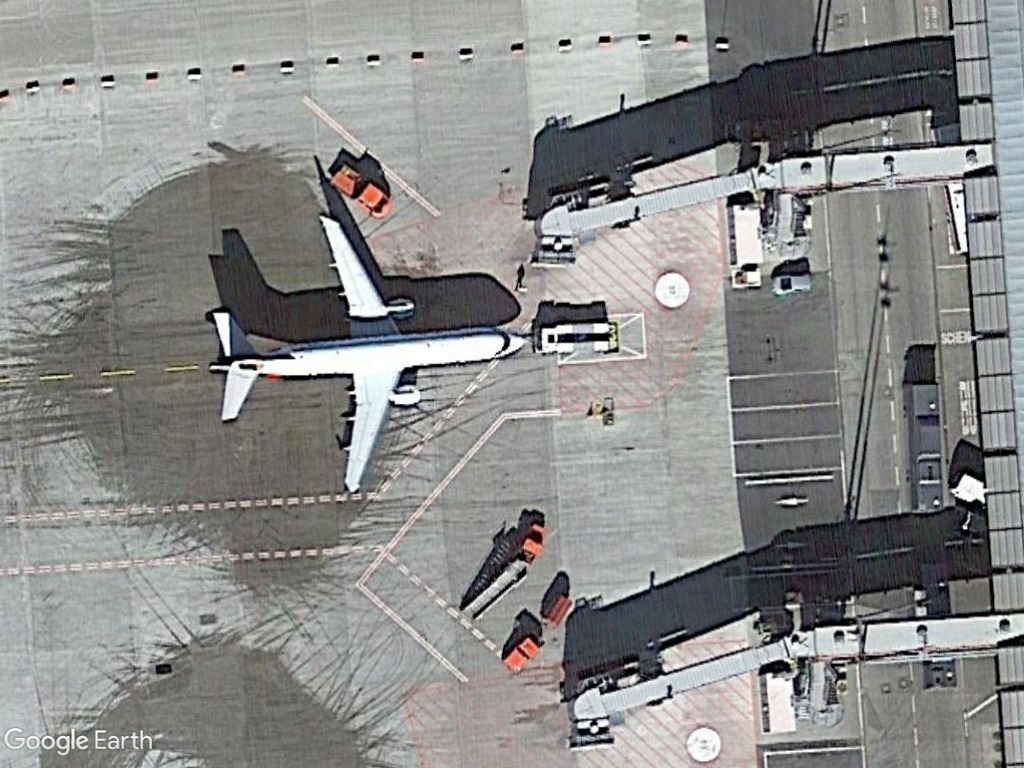airliner: (204, 206, 532, 498)
